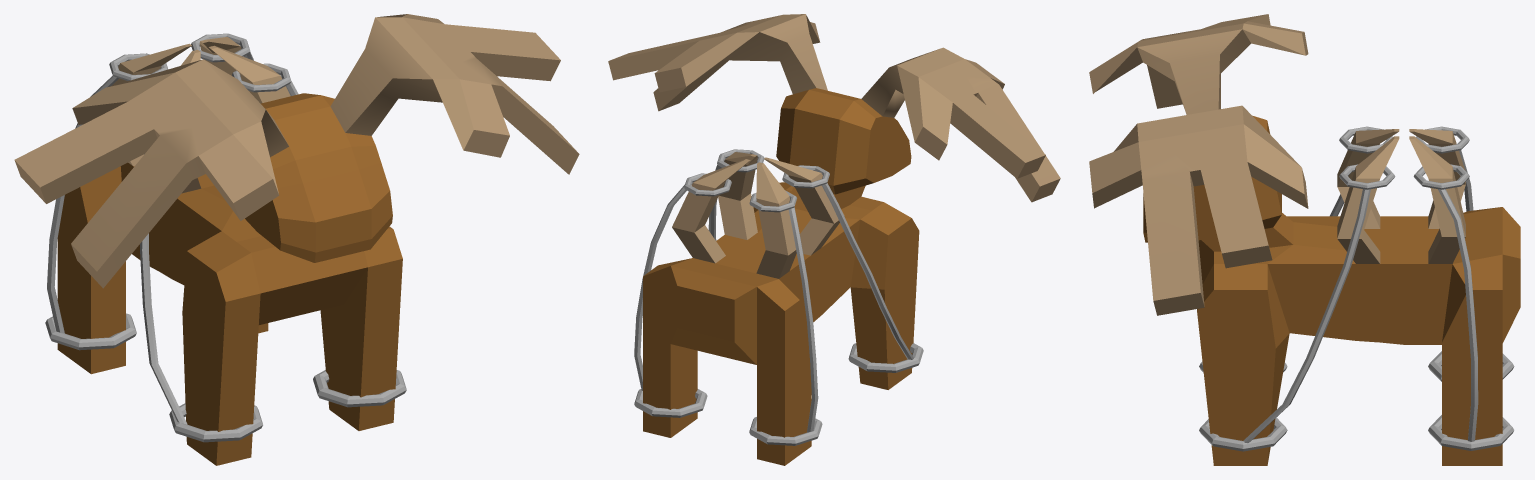
Rendered from p_boss_s(new).fbx.
3 renders of one model, left to right at view 1: azimuth 30°, elevation 25°; view 2: azimuth 150°, elevation 25°; view 3: azimuth 270°, elevation 25°, orthographic. The views are drawn at different scales.
Visible parts, largest first — view 1: body4, pCylinder5, pTorus4, pCylinder4, pTorus3, pTorus2, pTorus5, pTorus7; view 2: body4, pCylinder4, pCylinder5, pCylinder1, pTorus3, pTorus1, pTorus2, pTorus8, pTorus5; view 3: body4, pCylinder3, pCylinder1, pTorus4, pTorus1, pTorus5, pTorus7, pTorus6, pTorus8, pTorus2.
Part boxes in pixels (x1,y1,x2,y2): body4: (14,14,579,465); pCylinder5: (140,154,187,424); pTorus4: (313,370,406,407); pCylinder4: (47,75,118,333); pTorus3: (169,403,262,442); pTorus2: (45,313,136,350); pTorus5: (191,33,250,62); pTorus7: (232,63,291,92); body4: (608,14,1060,465); pCylinder4: (788,207,818,432); pCylinder5: (821,183,913,359); pCylinder1: (634,182,692,390); pTorus3: (848,343,923,372); pTorus1: (634,389,707,417); pTorus2: (749,417,822,445); pTorus8: (782,165,829,188); pTorus5: (684,173,731,196); body4: (1089,14,1520,465); pCylinder3: (1243,189,1370,443); pCylinder1: (1438,189,1478,441); pTorus4: (1199,417,1287,451); pTorus1: (1428,415,1514,450); pTorus5: (1413,164,1469,189); pTorus7: (1339,164,1395,189); pTorus6: (1415,126,1469,153); pTorus8: (1339,126,1392,153); pTorus2: (1428,351,1514,381).
Bounding box in the file's own units: 1.25 × 0.9024 × 0.9827.
3 materials, 2 textured.
